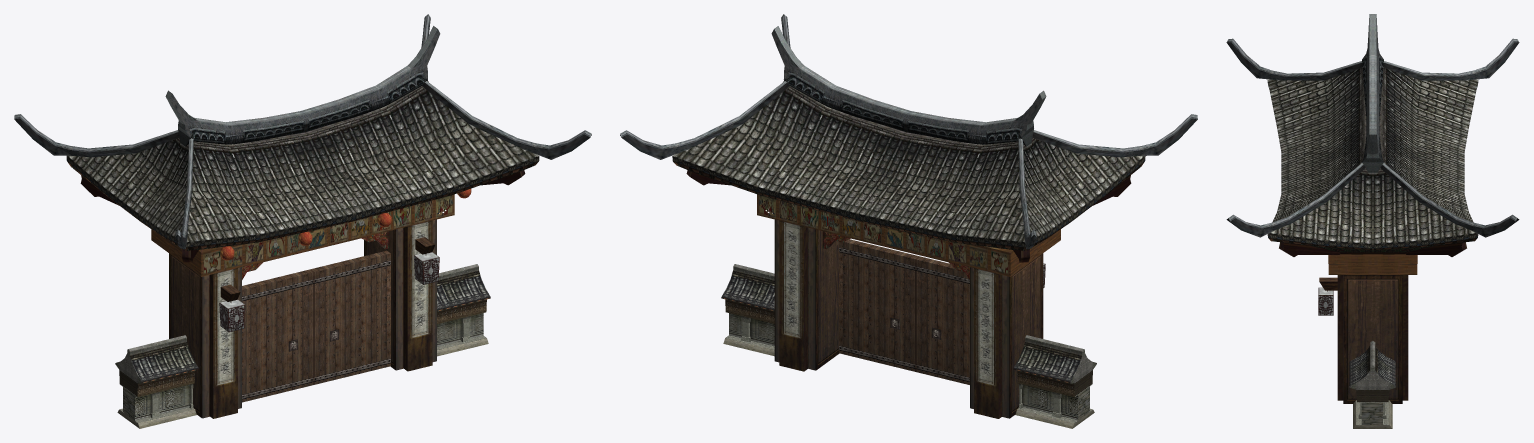
The model's file is 1st_gate_002.fbx.
3 views of the same model, side by side, from view 1: azimuth 30°, elevation 25°; view 2: azimuth 150°, elevation 25°; view 3: azimuth 270°, elevation 25° (orthographic). The views are drawn at different scales.
Visible parts, largest first — view 1: 12T_wall_30; view 2: 12T_wall_30; view 3: 12T_wall_30.
Boxes of the visible parts, x1,y1,x2,y2 form: 12T_wall_30: [14, 14, 591, 428]; 12T_wall_30: [620, 14, 1197, 428]; 12T_wall_30: [1226, 14, 1519, 428].
Size of the model in its own units: 15.02 by 10.97 by 10.33.
